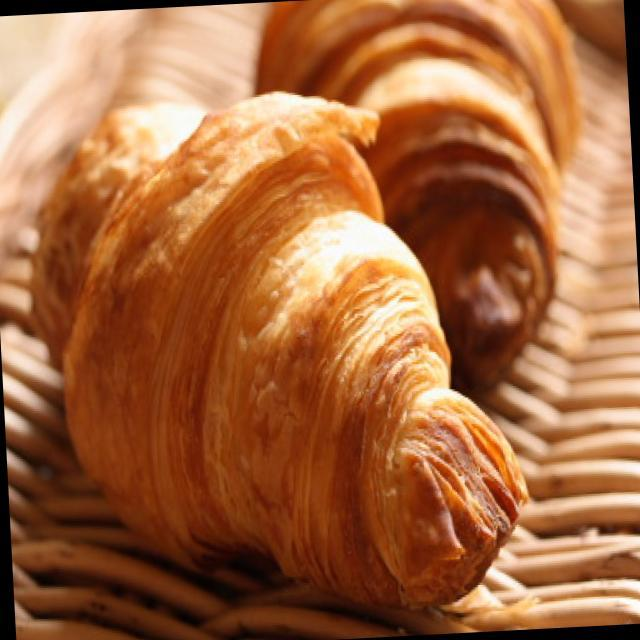Croissant: (14, 47, 524, 620)
